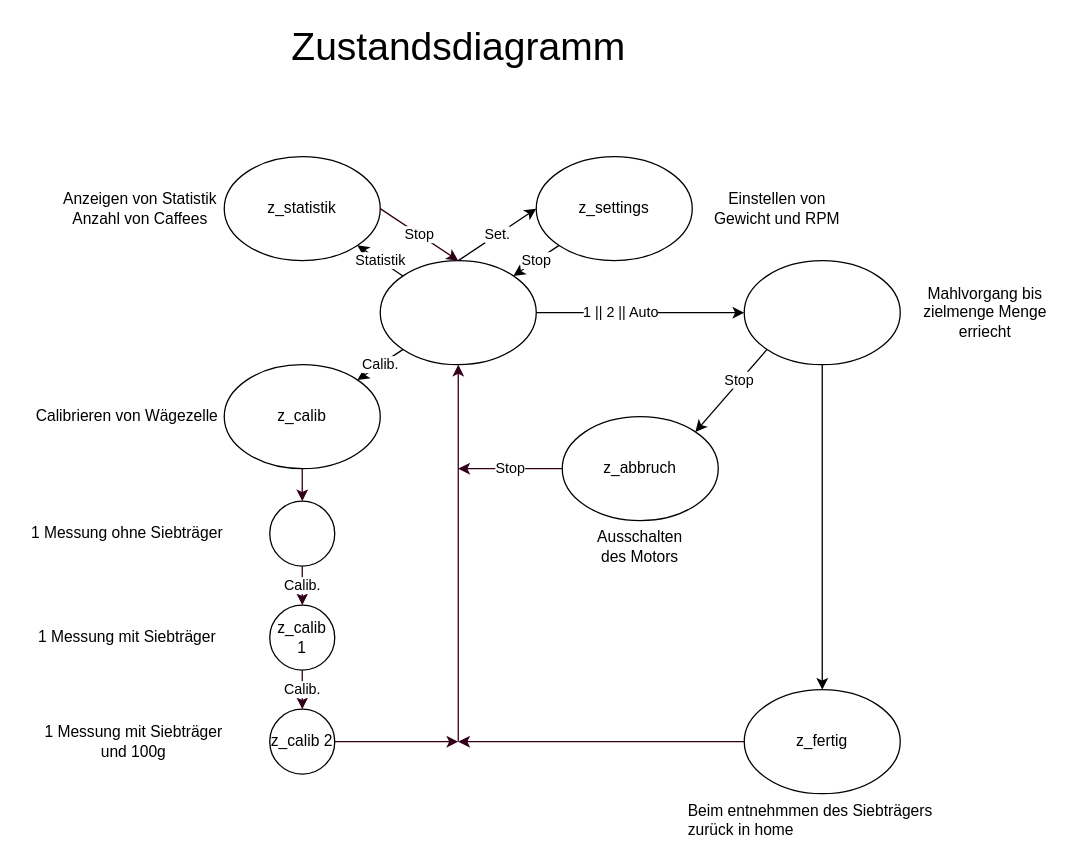
This 1078x862 diagram has some shape labels left out. Each missing label, with the centre of its shape:
z_calib 0: [301,533]
Z_home: [457,312]
z_mahlen: [821,312]
